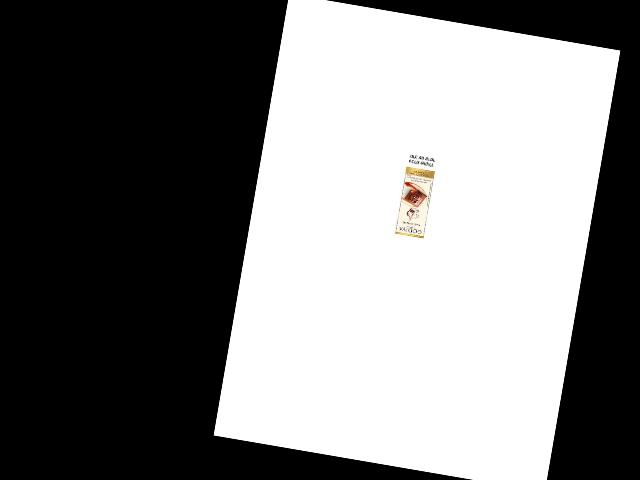chocolate: (392, 163, 434, 239)
